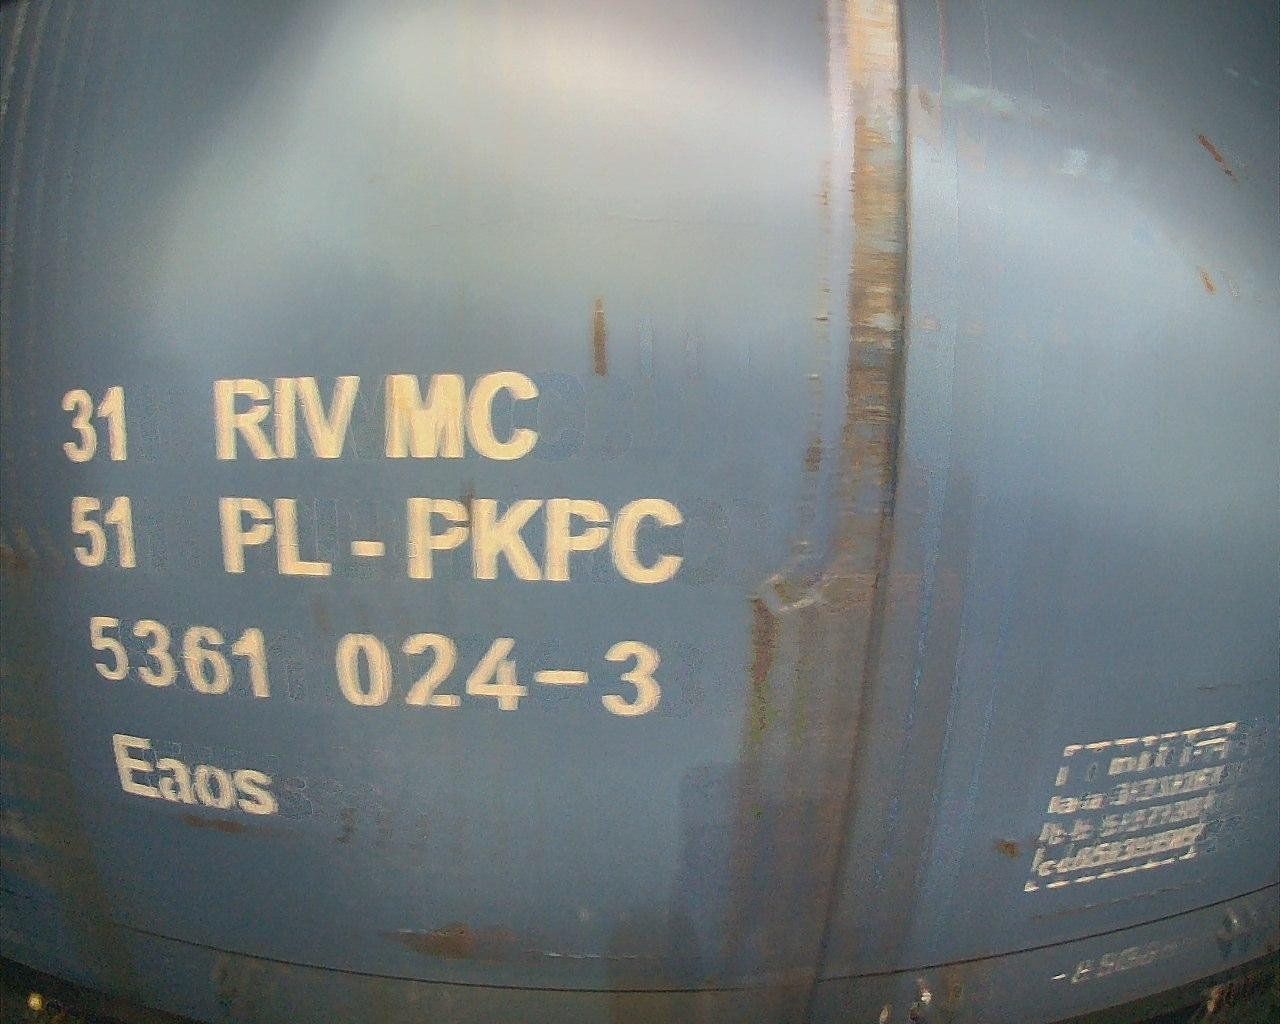UIC: (56, 365, 693, 825)
